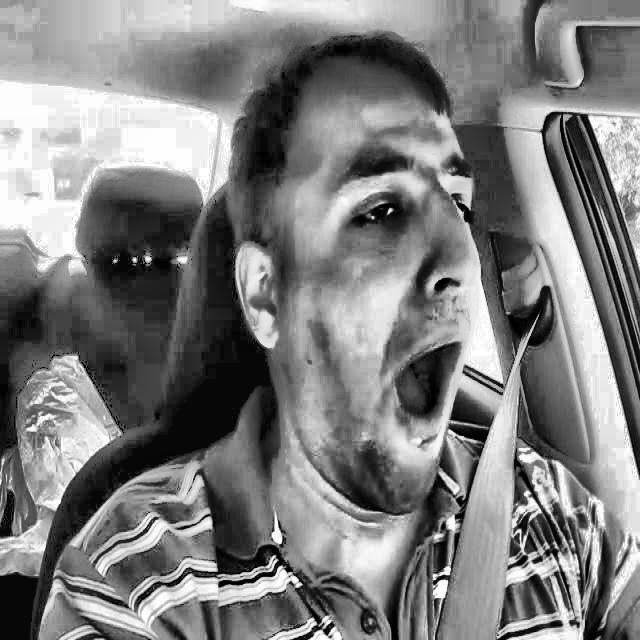open_eyes: (336, 187, 412, 249)
open_mouth: (374, 331, 476, 447)
